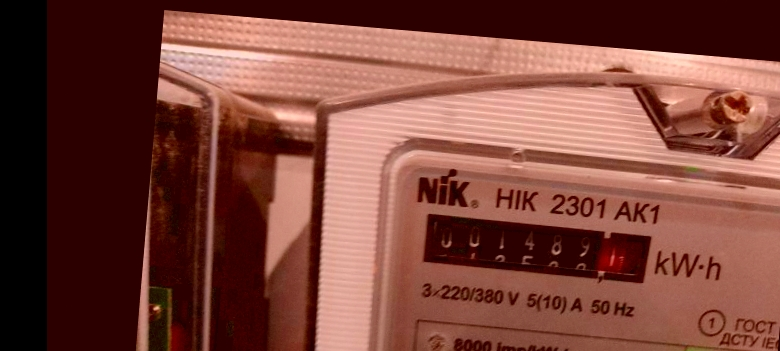0: (465, 221, 483, 248), (438, 223, 455, 249)
1: (494, 223, 510, 253), (605, 238, 619, 269)
4: (521, 226, 539, 253)
8: (547, 228, 566, 257)
9: (576, 233, 593, 259)
screen: (406, 201, 668, 298)
